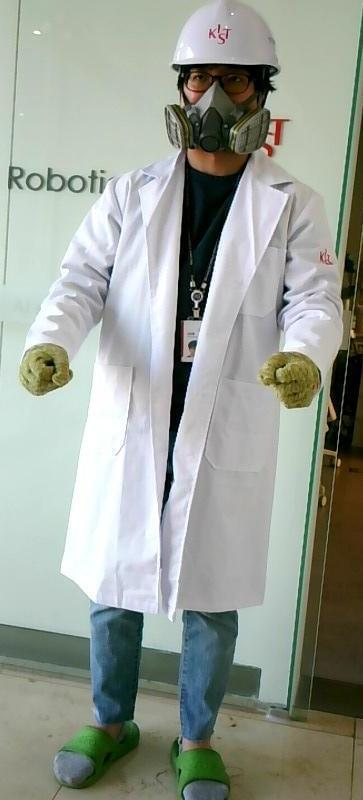lab_coat: (78, 165, 272, 595)
